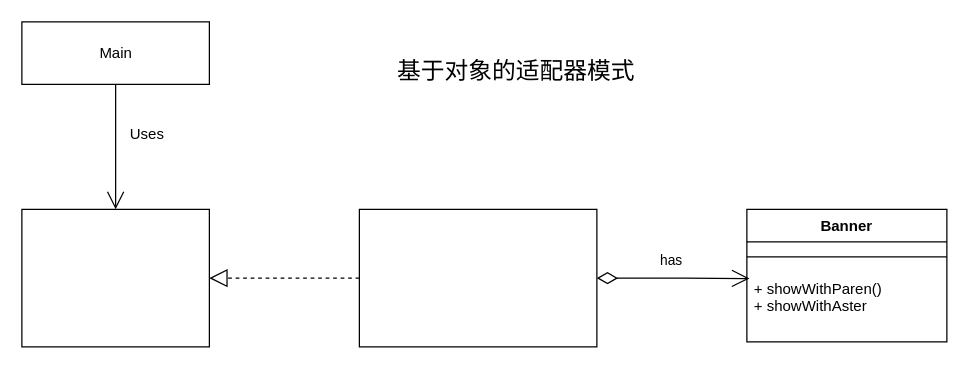
The diagram is 969 pixels wide and 369 high, and some of its shapes have lost their labels. Each missing label, with the centre of its shape:
<<Interface>> Print + printWeak() + printStrong(): the point at 115,277
PrintBanner - banner: Banner + printWeak() + printStrong(): the point at 477,277
